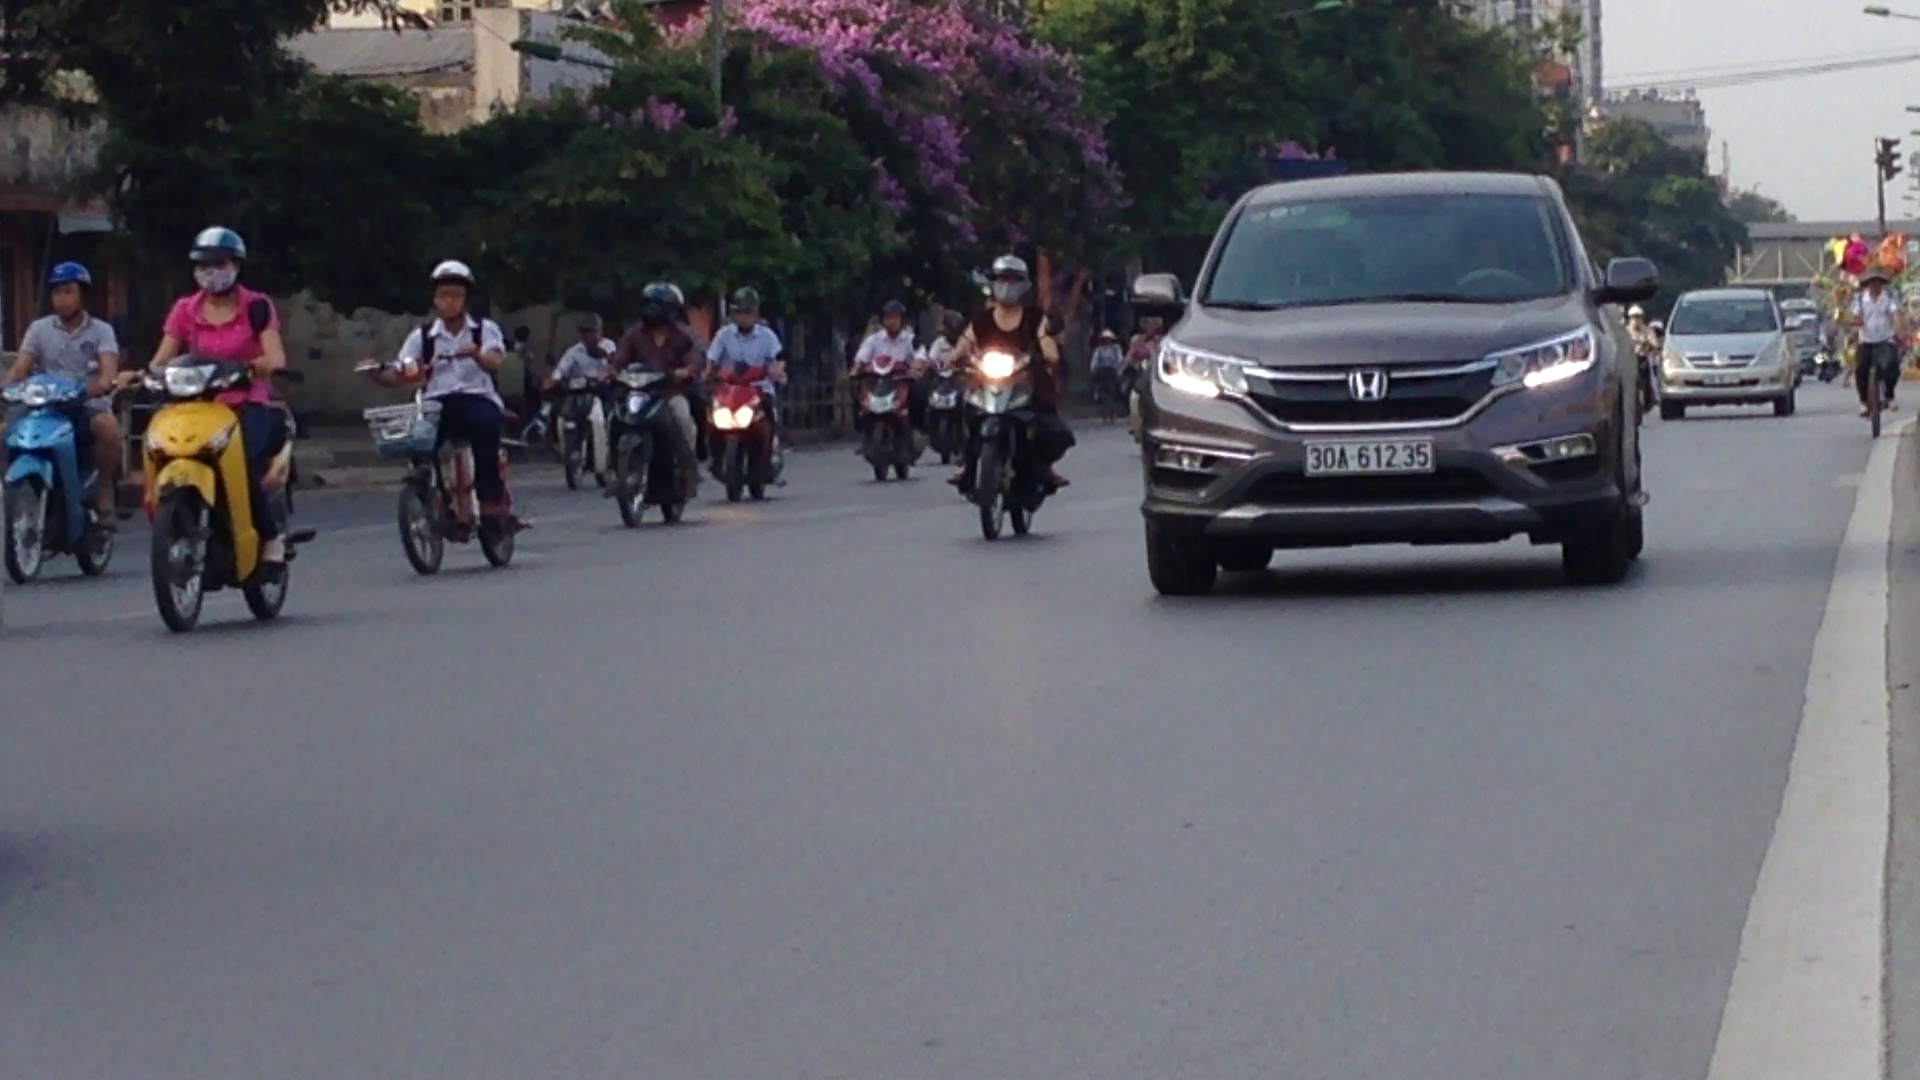person: (1300, 431, 1437, 475)
